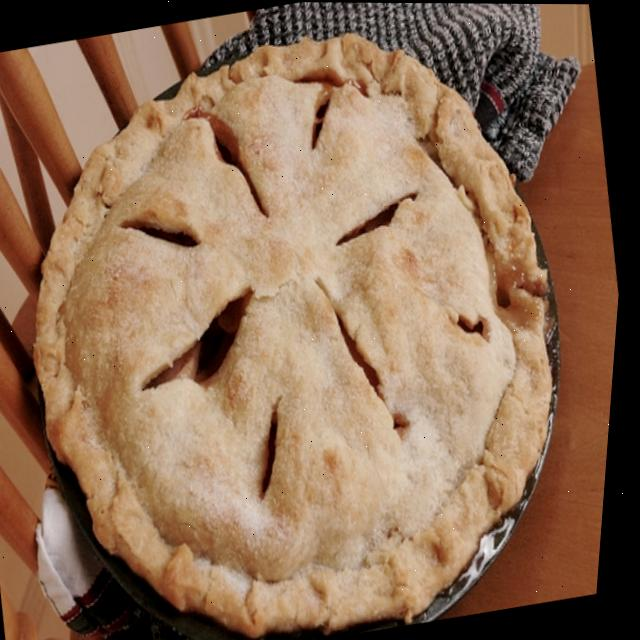炸货点心: (0, 1, 635, 640)
蛋糕甜品: (0, 1, 635, 640)
